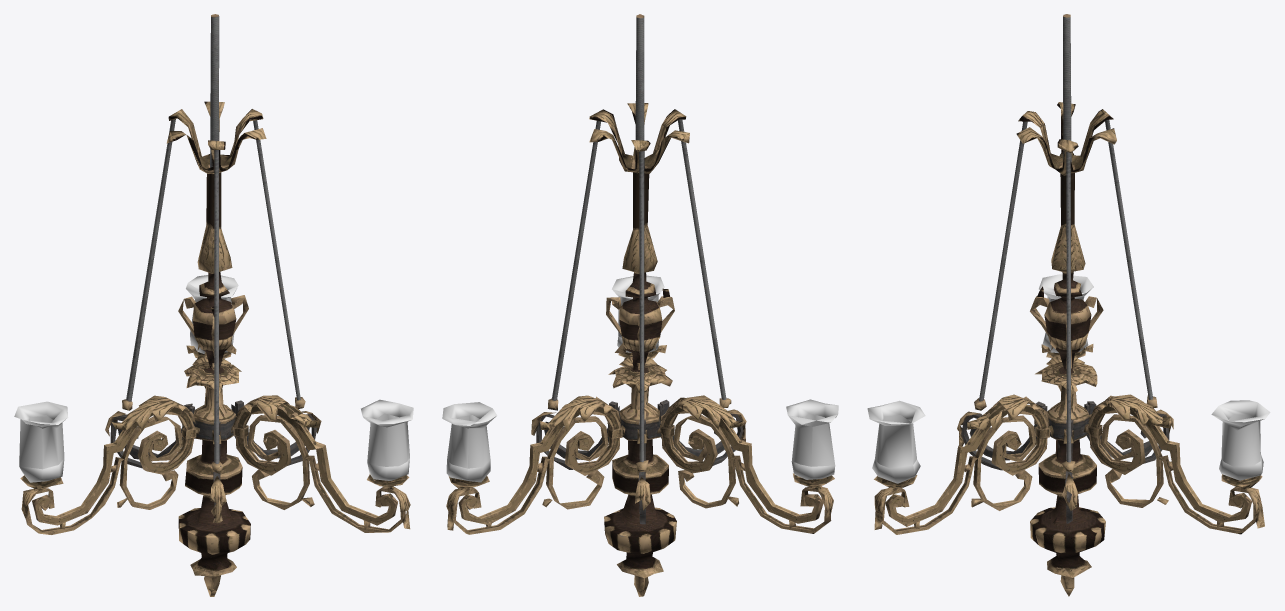
Rendered from Lamp.fbx.
3 renders of one model, left to right at view 1: azimuth 30°, elevation 25°; view 2: azimuth 150°, elevation 25°; view 3: azimuth 270°, elevation 25°, orthographic.
Parts seen in each view (by area): view 1: SM_LampChandelieR_Simpler_LOD0; view 2: SM_LampChandelieR_Simpler_LOD0; view 3: SM_LampChandelieR_Simpler_LOD0.
Boxes of the visible parts, x1=… form: SM_LampChandelieR_Simpler_LOD0: x1=14, y1=14, x2=413, y2=596; SM_LampChandelieR_Simpler_LOD0: x1=442, y1=14, x2=838, y2=596; SM_LampChandelieR_Simpler_LOD0: x1=867, y1=14, x2=1270, y2=596.
Bounding box in the file's own units: 130 × 235 × 147.
